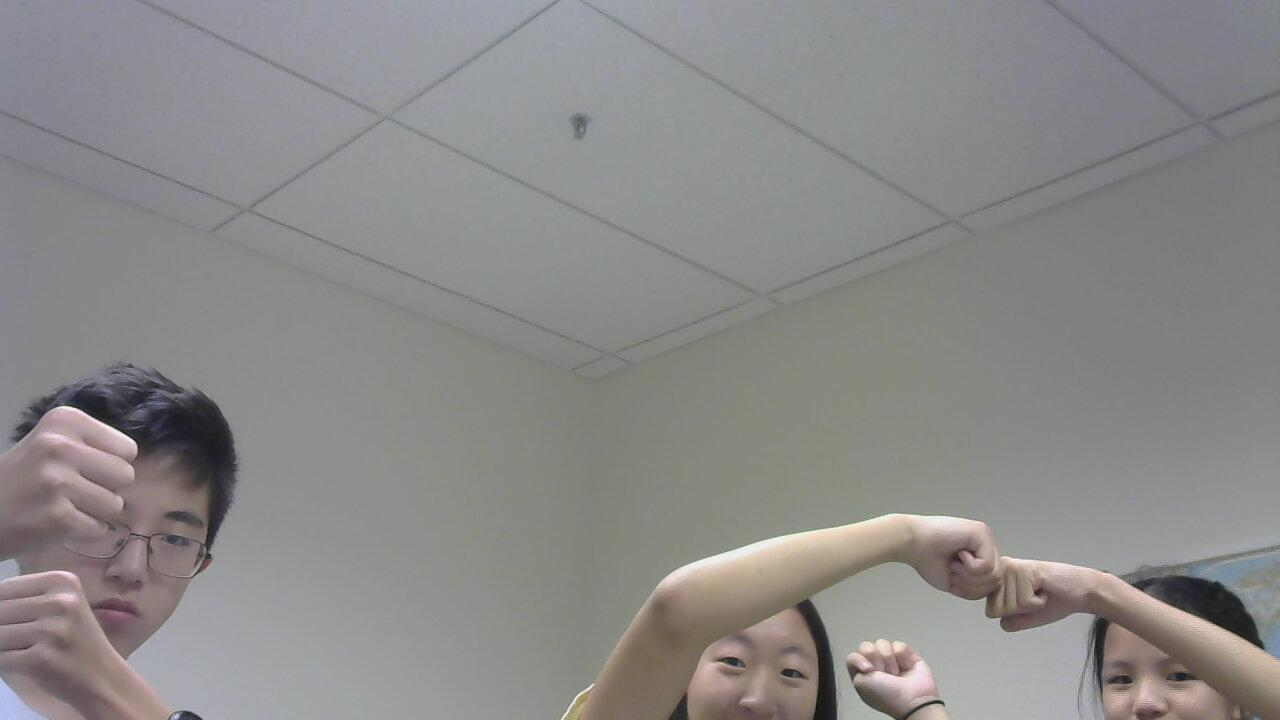fist: (0, 519, 191, 720), (0, 387, 129, 574), (871, 497, 1012, 629), (969, 547, 1113, 646)
